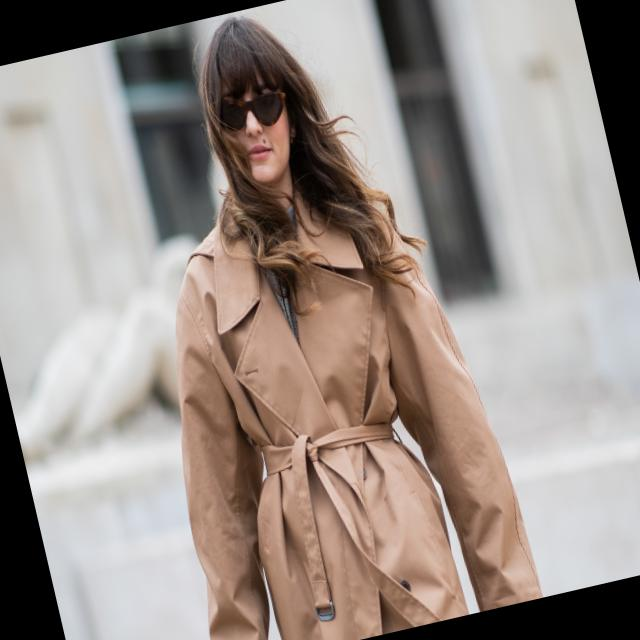Jacket: (123, 169, 529, 640)
